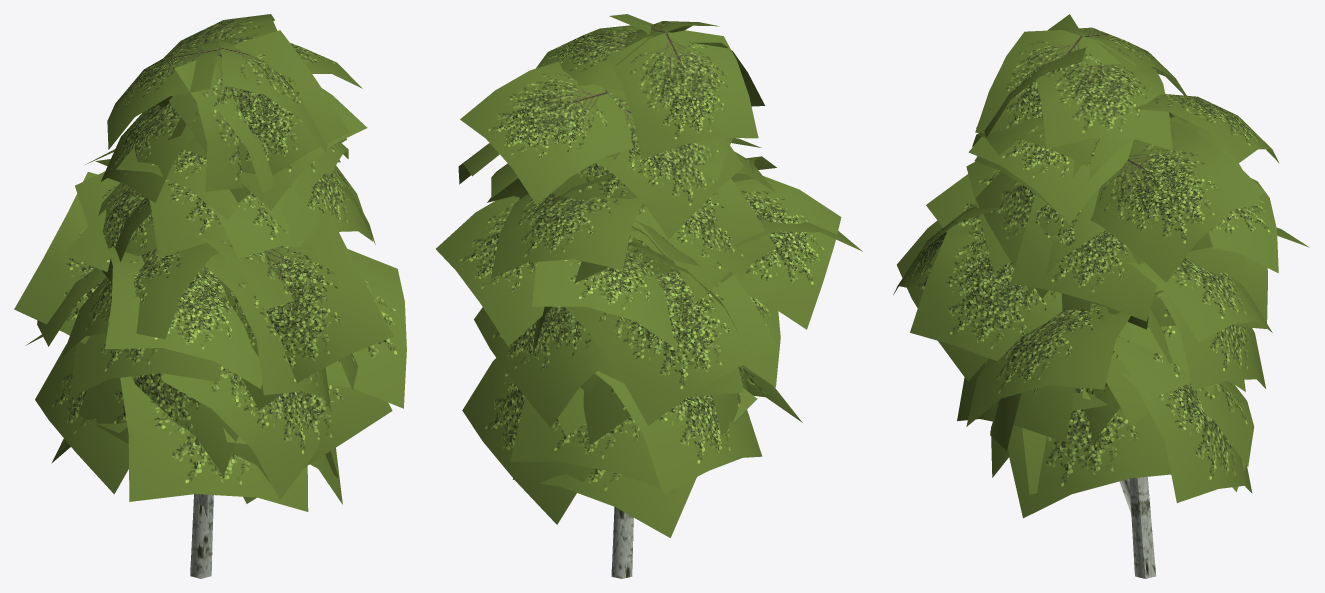
Rendered from birchB.obj.
3 renders of one model, left to right at view 1: azimuth 30°, elevation 25°; view 2: azimuth 150°, elevation 25°; view 3: azimuth 270°, elevation 25°, orthographic. The views are drawn at different scales.
Size of the model in its own units: 9.63 by 14.84 by 10.33.
